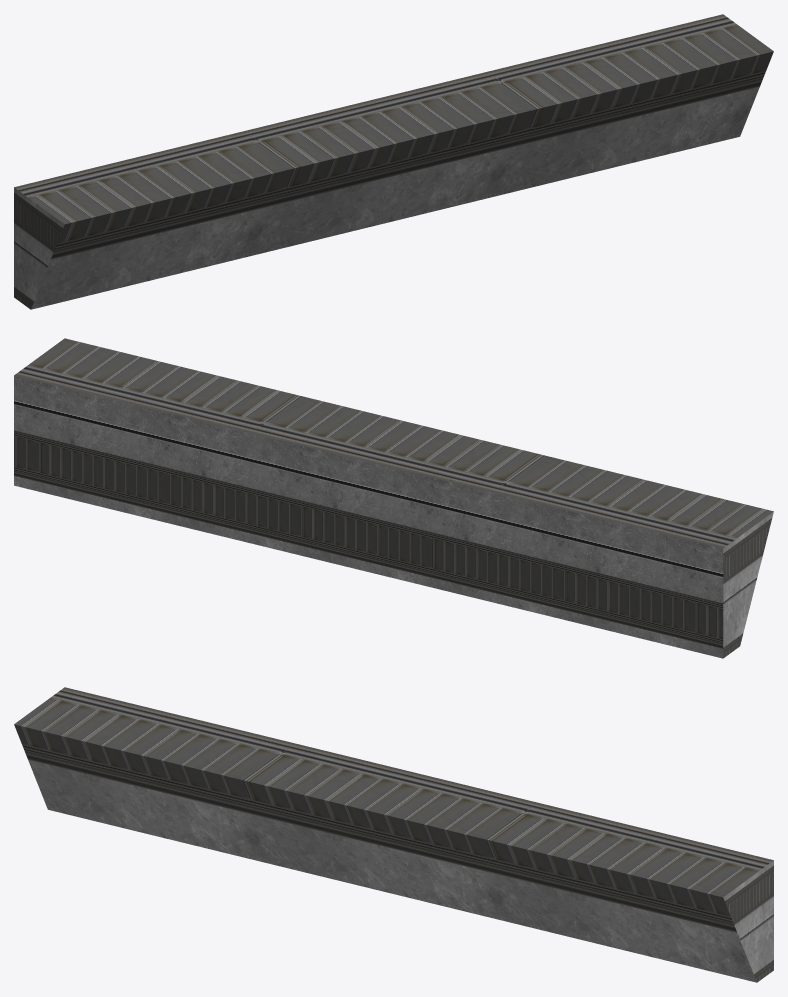
File: Ob_ScafHorizThickAngular_RC.fbx
3 views of the same model, one above another, from view 1: azimuth 30°, elevation 25°; view 2: azimuth 150°, elevation 25°; view 3: azimuth 330°, elevation 25° (orthographic).
Parts seen in each view (by area): view 1: Ob_ScafHorizThickAngular_RC; view 2: Ob_ScafHorizThickAngular_RC; view 3: Ob_ScafHorizThickAngular_RC.
Part boxes in pixels (x1,y1,x2,y2): Ob_ScafHorizThickAngular_RC: (14,14,773,309); Ob_ScafHorizThickAngular_RC: (14,338,773,658); Ob_ScafHorizThickAngular_RC: (14,687,773,982).
Size of the model in its own units: 4983 by 740 by 618.
